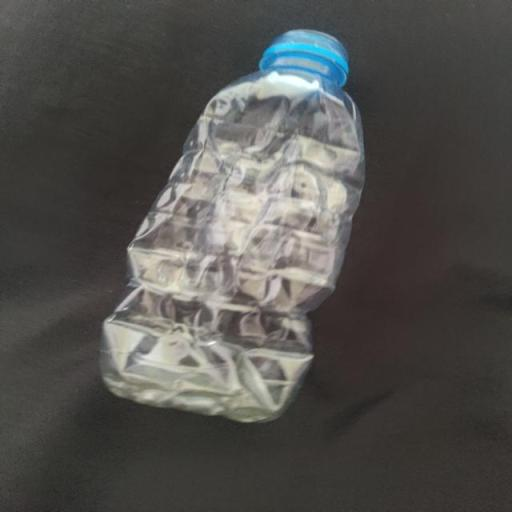bottle: (102, 30, 364, 422)
